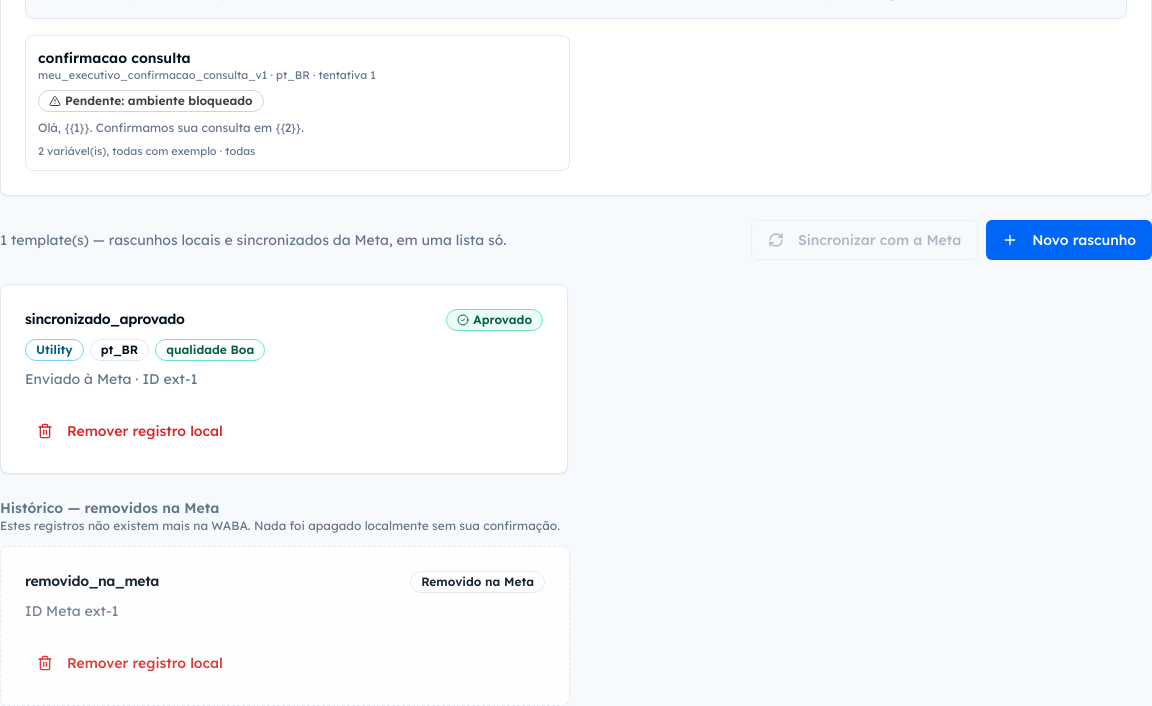
it: WhatsAppMetaTemplates: estados da lista unificada › separa órfãos da lista ativa e só remove o registro local após confirmação
Later steps or results of the test are not shown.
(page scrolled)
Check: the heading "Histórico — removidos na Meta" is shown, box 0,499 -> 219,517
Check: the text "removido_na_meta" is shown, box 25,571 -> 159,591
Click the button "Remover registro local" below "ID Meta ext-1".
click(130, 663)  # box 25,645 -> 235,681
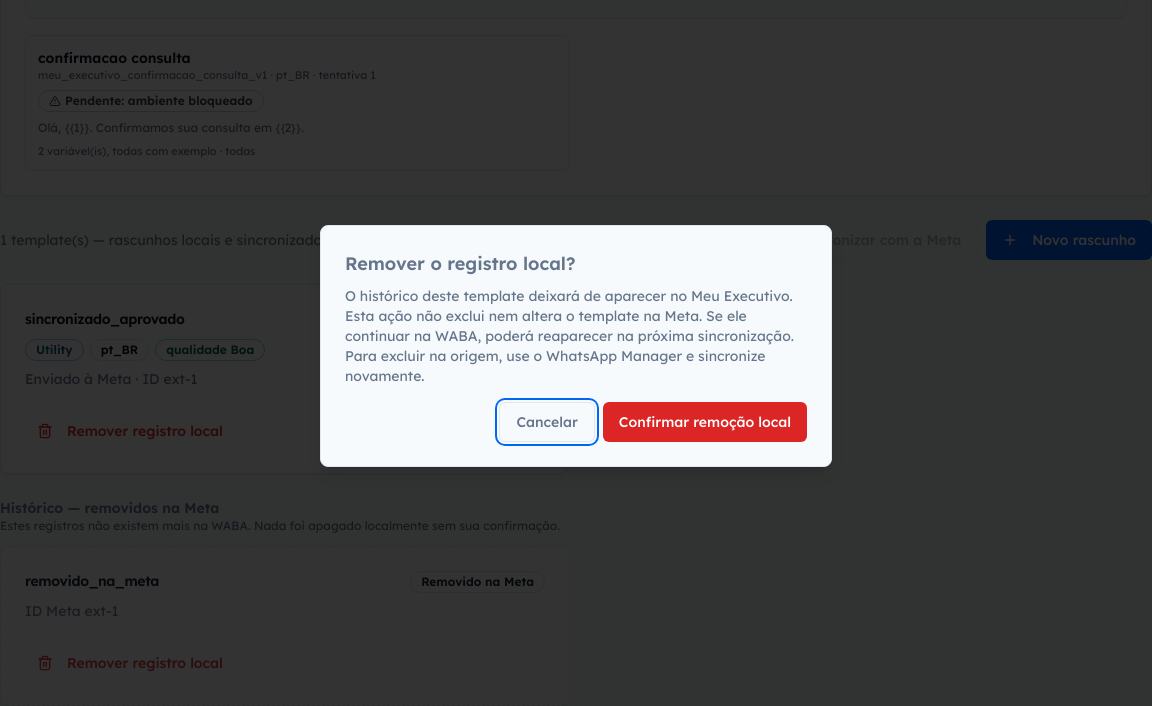
Check: the text "esta ação não exclui nem altera o template na meta" is shown, box 345,287 -> 794,385
